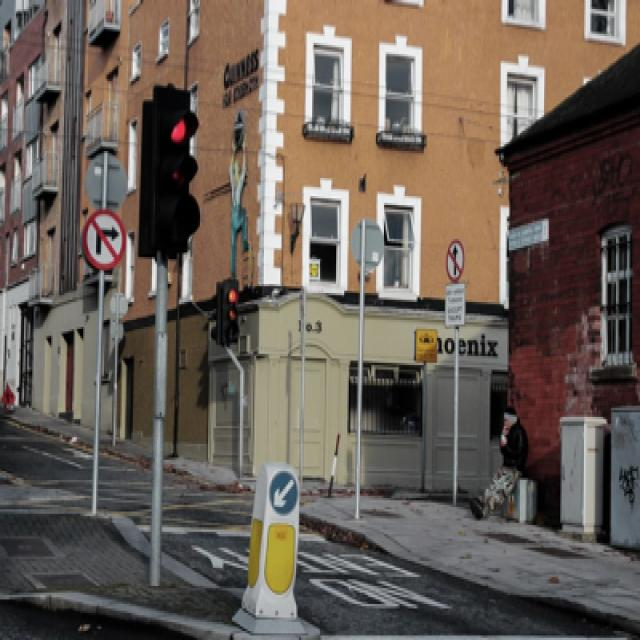trafficlight: (133, 75, 197, 262), (213, 270, 240, 345)
